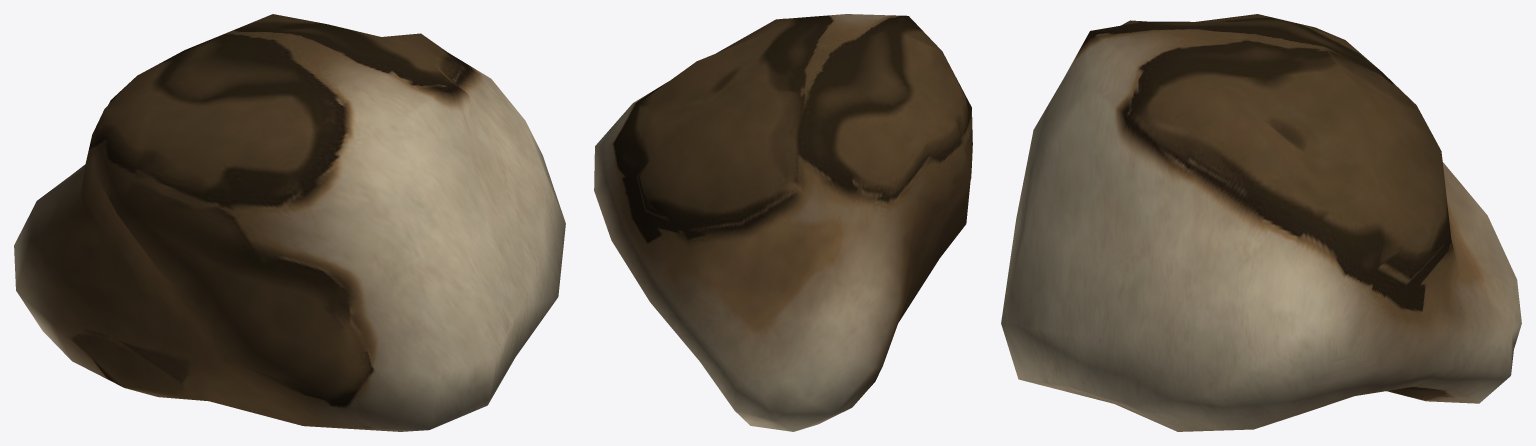
The model's file is Distal_Carpal_IV.glb.
3 views of the same model, side by side, from view 1: azimuth 30°, elevation 25°; view 2: azimuth 150°, elevation 25°; view 3: azimuth 270°, elevation 25° (orthographic). The views are drawn at different scales.
Parts seen in each view (by area): view 1: Distal_Carpal_IV_Left1:Distal_Carpal_IV_Left; view 2: Distal_Carpal_IV_Left1:Distal_Carpal_IV_Left; view 3: Distal_Carpal_IV_Left1:Distal_Carpal_IV_Left.
Part boxes in pixels (<box>): Distal_Carpal_IV_Left1:Distal_Carpal_IV_Left: <box>14,14,565,431</box>; Distal_Carpal_IV_Left1:Distal_Carpal_IV_Left: <box>594,14,972,431</box>; Distal_Carpal_IV_Left1:Distal_Carpal_IV_Left: <box>1001,14,1521,431</box>.
Size of the model in its own units: 12.42 by 10.31 by 12.67.
1 material, 1 textured.
